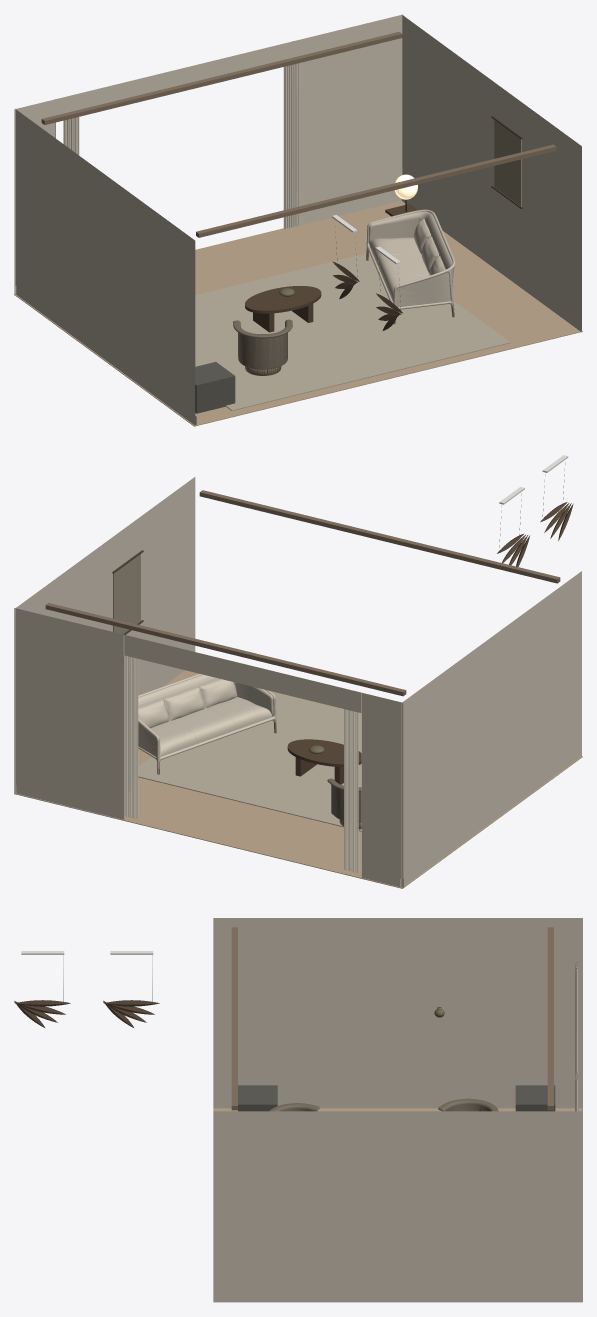
File: great-3.glb
3 views of the same model, one above another, from view 1: azimuth 30°, elevation 25°; view 2: azimuth 150°, elevation 25°; view 3: azimuth 270°, elevation 25° (orthographic). The views are drawn at different scales.
Visible parts, largest first — view 1: DESIGN | great removable wall finish, DESIGN | Great room primary ground, DESIGN | great floor finish, DESIGN | Great room sofa facing conversation, DESIGN | Retreat concealed light edge.001, DESIGN | Retreat concealed light edge, DESIGN | Great room soft window edge.001, DESIGN | Required Bellustar swivel chair one, DESIGN | Great room low stone display, DESIGN | Great room linen hanging, DESIGN | R7 low conversation table, DESIGN | Great room soft window edge; view 2: DESIGN | great removable wall finish, DESIGN | Great room primary ground, DESIGN | great floor finish, DESIGN | Great room sofa facing conversation, DESIGN | Retreat concealed light edge, DESIGN | Retreat concealed light edge.001, DESIGN | Great room soft window edge, DESIGN | Great room soft window edge.001, DESIGN | Great room linen hanging, DESIGN | R7 low conversation table, DESIGN | Required Bellustar swivel chair two, DESIGN | Required Flou pendant 1; view 3: DESIGN | great removable wall finish, DESIGN | great floor finish, DESIGN | Retreat concealed light edge, DESIGN | Retreat concealed light edge.001, DESIGN | Great room low stone display, DESIGN | Great room low stone display.001, DESIGN | Required Flou pendant 2, DESIGN | Required Flou pendant 1, DESIGN | Required Bellustar swivel chair two.
Boxes of the visible parts, x1,y1,x2,y2 form: DESIGN | great removable wall finish: [14, 14, 581, 425]; DESIGN | Great room primary ground: [195, 252, 510, 410]; DESIGN | great floor finish: [14, 200, 582, 426]; DESIGN | Great room sofa facing conversation: [366, 209, 455, 324]; DESIGN | Retreat concealed light edge.001: [41, 31, 402, 124]; DESIGN | Retreat concealed light edge: [196, 144, 556, 237]; DESIGN | Great room soft window edge.001: [283, 63, 299, 229]; DESIGN | Required Bellustar swivel chair one: [233, 319, 292, 375]; DESIGN | Great room low stone display: [195, 362, 235, 413]; DESIGN | Great room linen hanging: [494, 120, 521, 206]; DESIGN | R7 low conversation table: [245, 286, 321, 313]; DESIGN | Great room soft window edge: [63, 117, 79, 155]; DESIGN | great removable wall finish: [14, 477, 581, 887]; DESIGN | Great room primary ground: [138, 691, 361, 831]; DESIGN | great floor finish: [14, 670, 582, 888]; DESIGN | Great room sofa facing conversation: [138, 674, 276, 774]; DESIGN | Retreat concealed light edge: [199, 490, 560, 583]; DESIGN | Retreat concealed light edge.001: [45, 603, 406, 696]; DESIGN | Great room soft window edge: [344, 709, 358, 873]; DESIGN | Great room soft window edge.001: [124, 655, 138, 819]; DESIGN | Great room linen hanging: [113, 554, 140, 634]; DESIGN | R7 low conversation table: [287, 739, 361, 766]; DESIGN | Required Bellustar swivel chair two: [327, 778, 361, 829]; DESIGN | Required Flou pendant 1: [540, 502, 573, 540]; DESIGN | great removable wall finish: [213, 918, 582, 1301]; DESIGN | great floor finish: [213, 1108, 582, 1302]; DESIGN | Retreat concealed light edge: [231, 927, 237, 1110]; DESIGN | Retreat concealed light edge.001: [547, 927, 553, 1110]; DESIGN | Great room low stone display: [238, 1085, 277, 1111]; DESIGN | Great room low stone display.001: [515, 1085, 555, 1111]; DESIGN | Required Flou pendant 2: [103, 1000, 159, 1027]; DESIGN | Required Flou pendant 1: [14, 1000, 70, 1028]; DESIGN | Required Bellustar swivel chair two: [438, 1098, 498, 1111].
Size of the model in its own units: 6 by 3.04 by 7.42.
